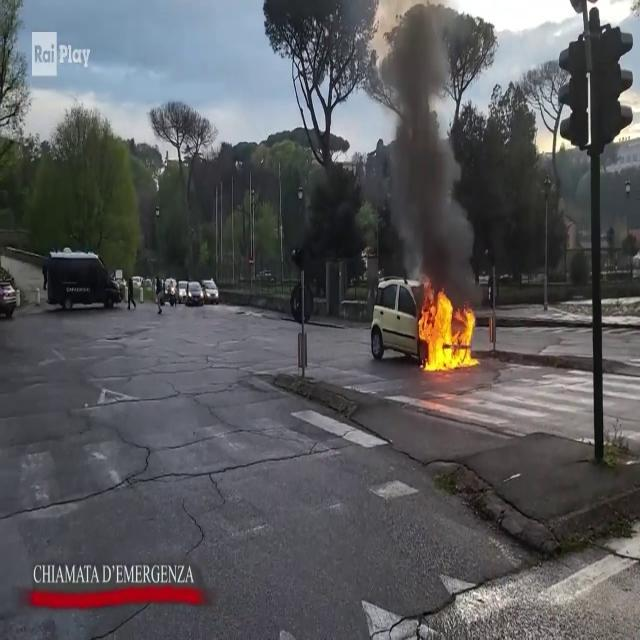Fire: (416, 288, 479, 373)
Smoke: (376, 2, 480, 288)
